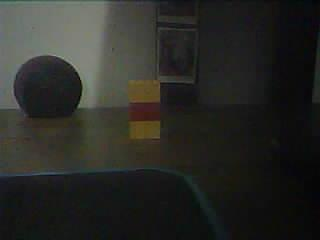lego: (127, 78, 161, 140)
